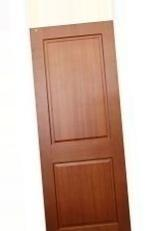door: (36, 19, 123, 231)
